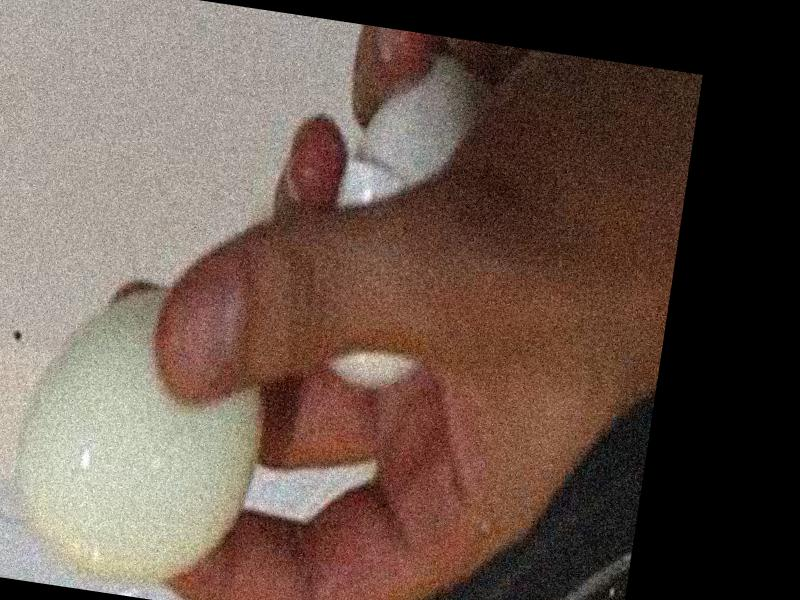Eggs: (6, 269, 281, 600)
